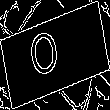O_S: (37, 24, 73, 86)
